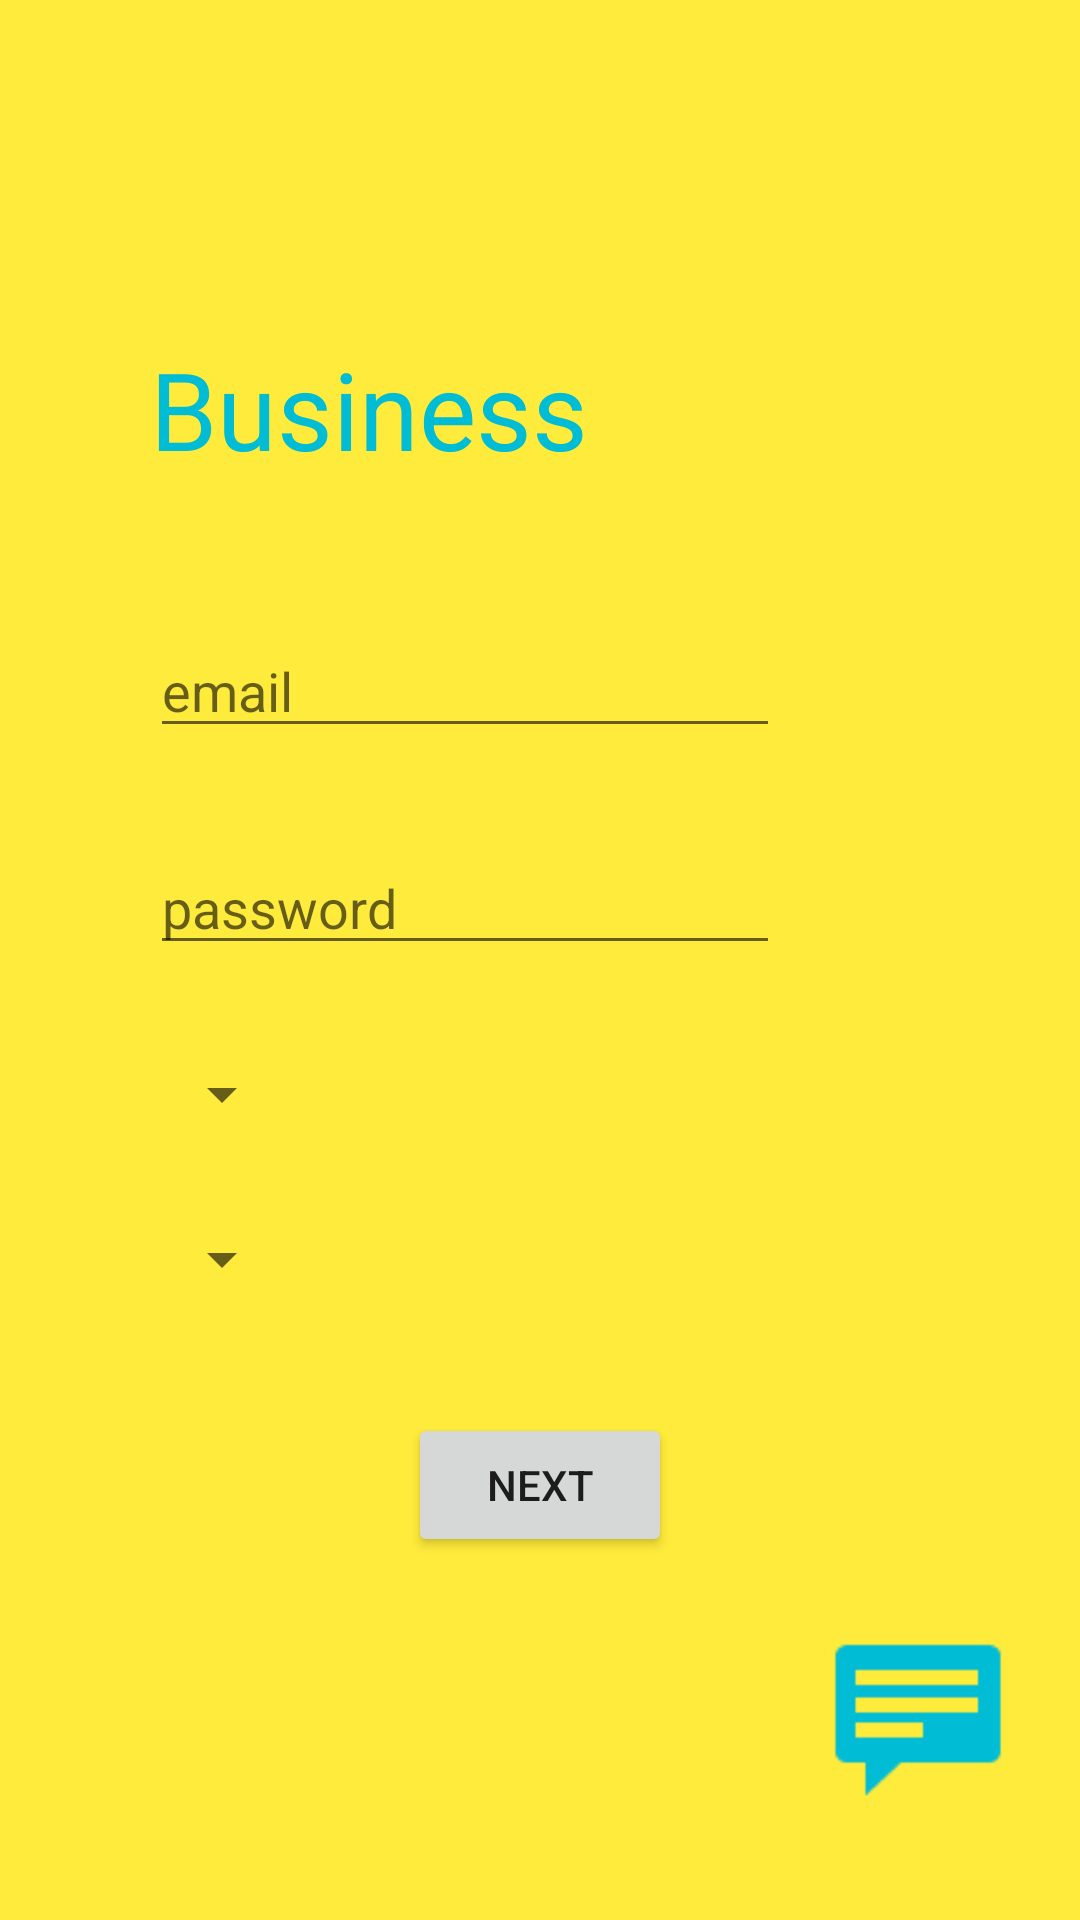

Icon click points for this 1080px×1920px phone screenshot, format [x,y]:
chatbot: [918,1720]
